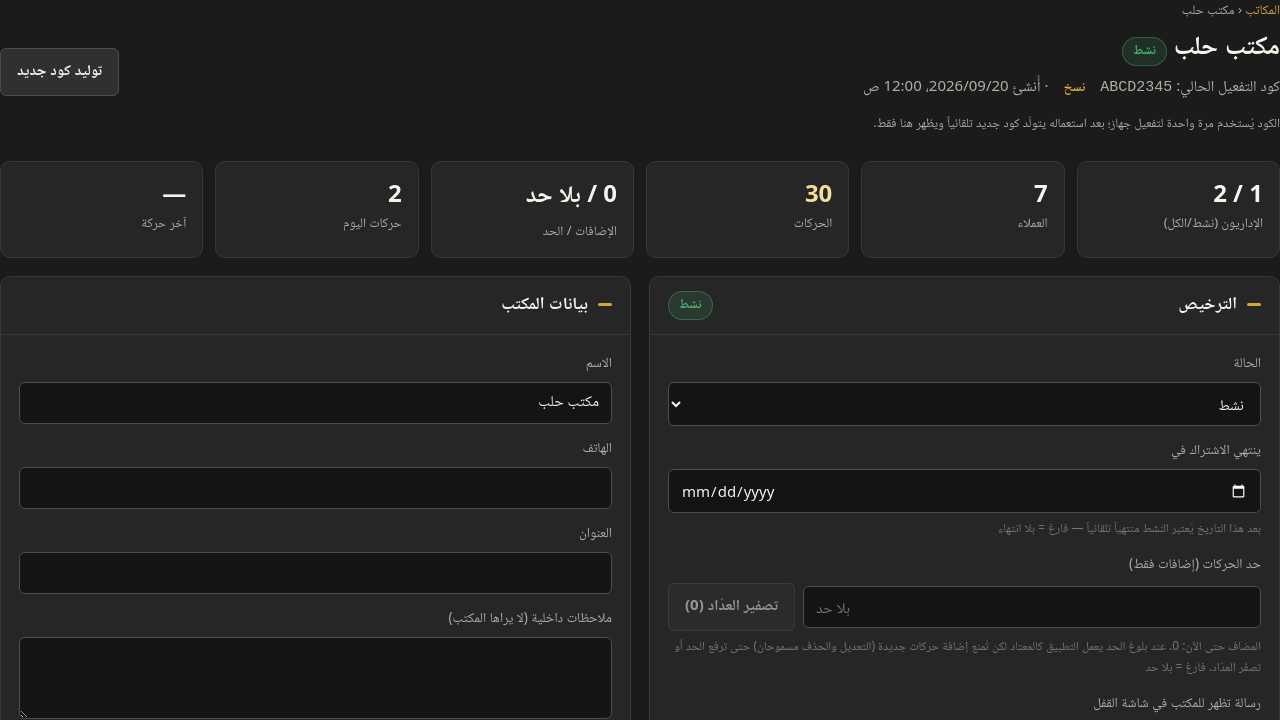
Test case: office code regeneration › asks for confirmation, then shows the new code once
What coordinates should you click on to do the following:
click the button "توليد كود جديد"
I would click on:
 (60, 72)
Its box is [0, 48, 119, 96].
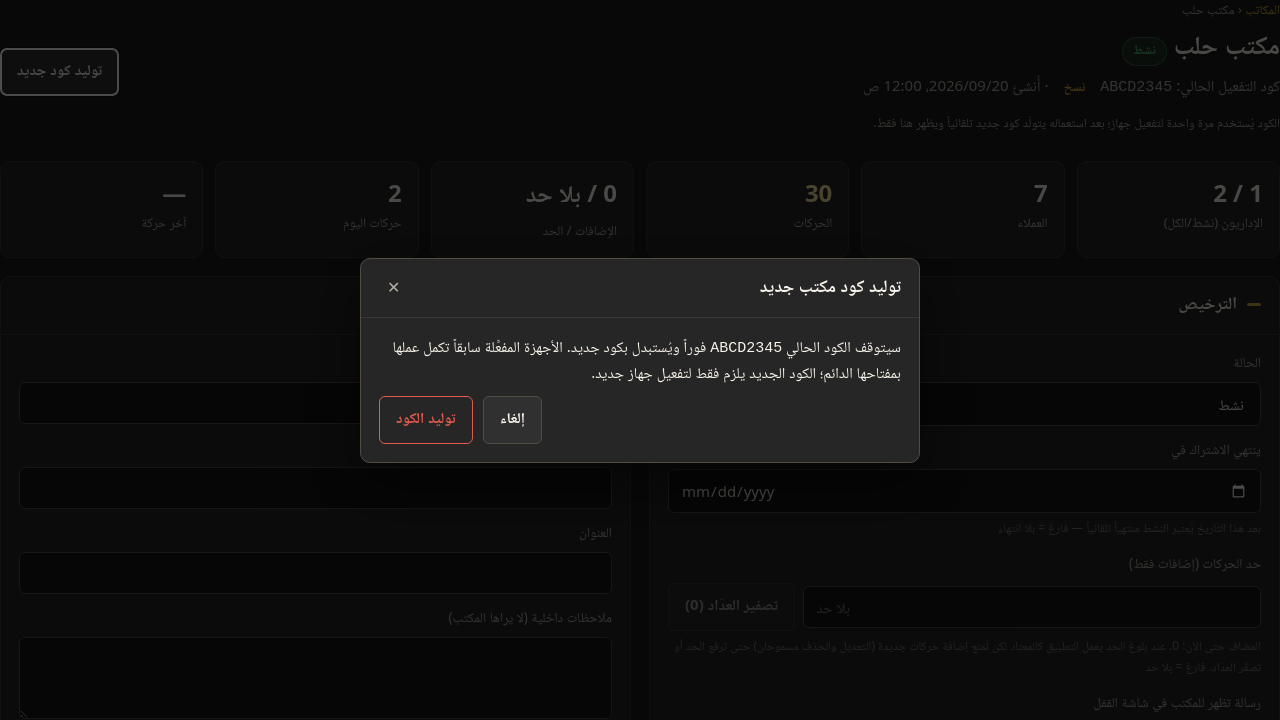
expect the text "ABCD2345" is shown: met, box [710, 340, 782, 356]
What coordinates should you click on to do the following:
click the button "توليد الكود"
I would click on:
 (426, 420)
Its box is [379, 396, 473, 444].
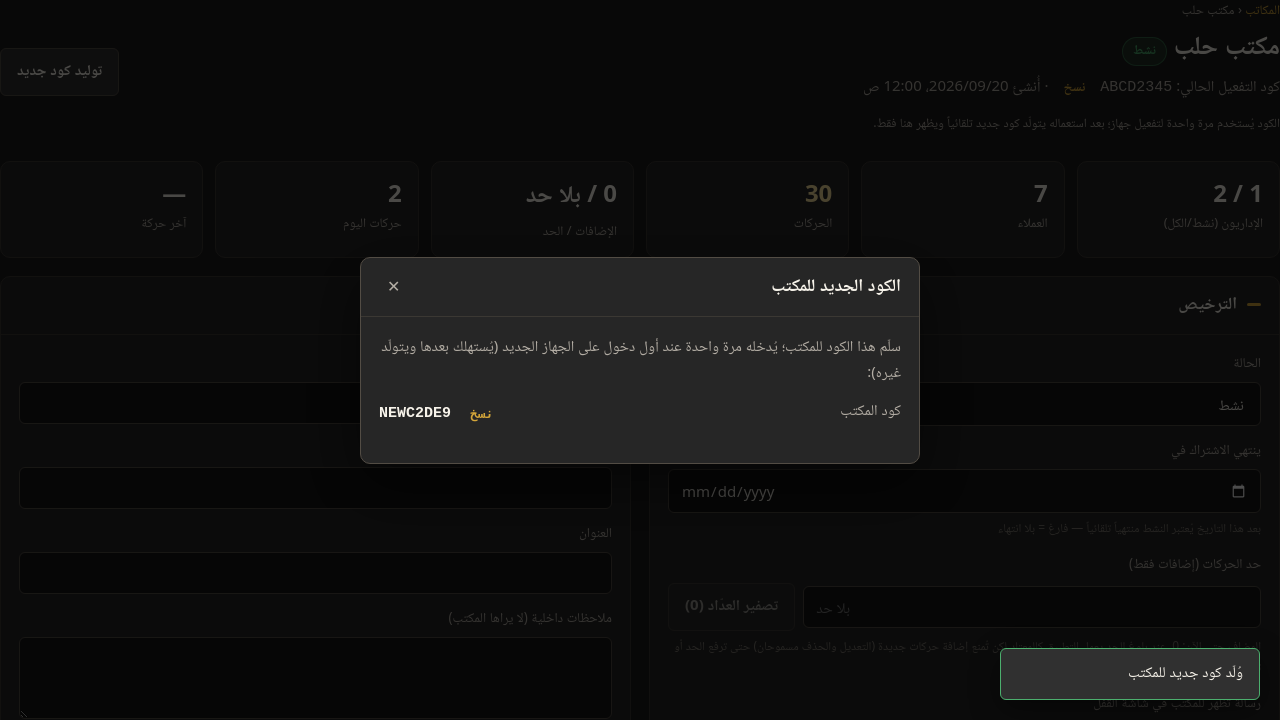
expect the text "NEWC2DE9" is shown: met, box [379, 405, 451, 422]
